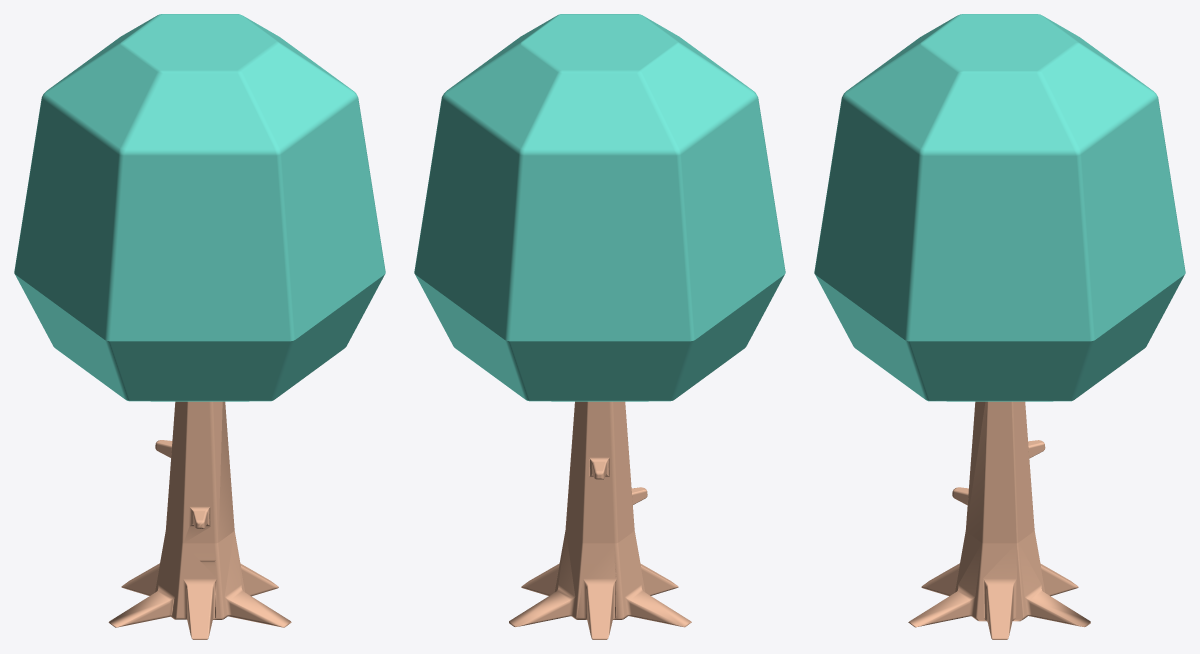
The model's file is tree_oak.glb.
3 renders of one model, left to right at view 1: azimuth 30°, elevation 25°; view 2: azimuth 150°, elevation 25°; view 3: azimuth 270°, elevation 25°, orthographic.
Visible parts, largest first — view 1: tree_oak; view 2: tree_oak; view 3: tree_oak.
Boxes of the visible parts, x1,y1,x2,y2 form: tree_oak: [14, 14, 385, 639]; tree_oak: [414, 14, 785, 639]; tree_oak: [814, 14, 1185, 639].
Size of the model in its own units: 0.6406 by 1.23 by 0.7357.
